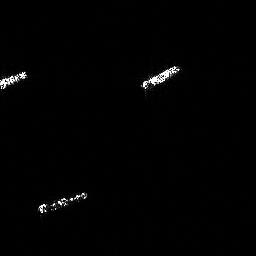ship: (36, 190, 90, 215), (137, 63, 181, 92), (1, 67, 28, 91)
